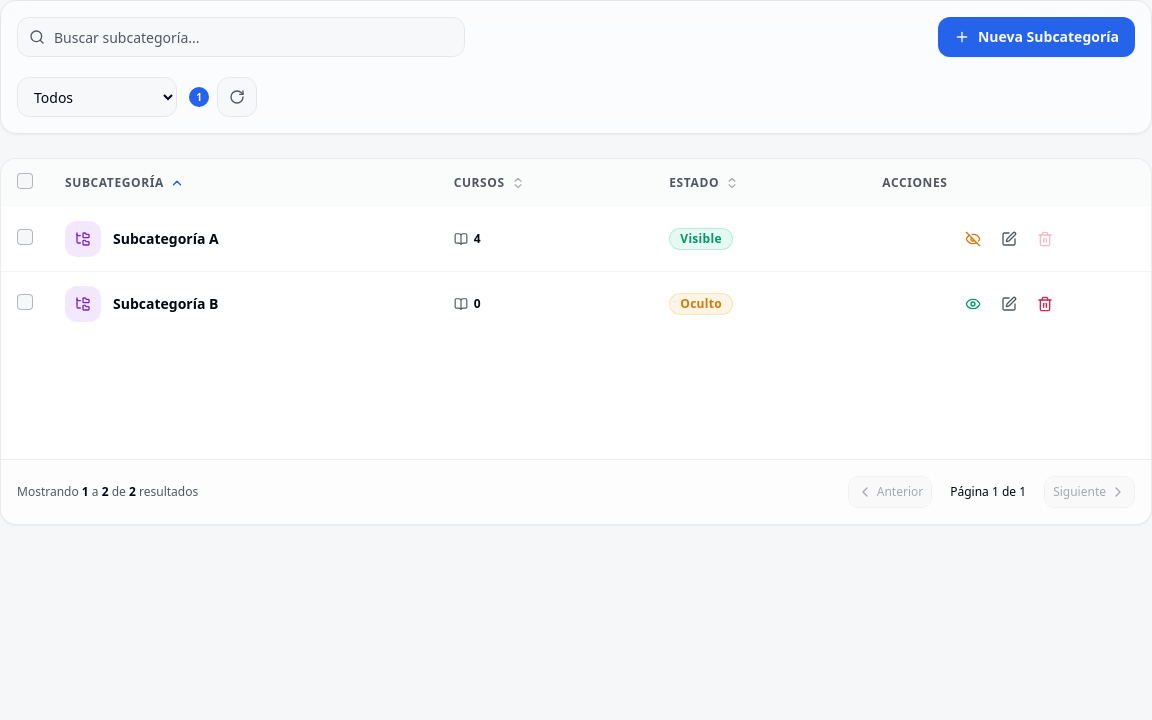
CategorySubcatsTab › opens create modal on button click
Click the button "Nueva Subcategoría" at {"x": 1036, "y": 37}, box [938,17,1135,57]
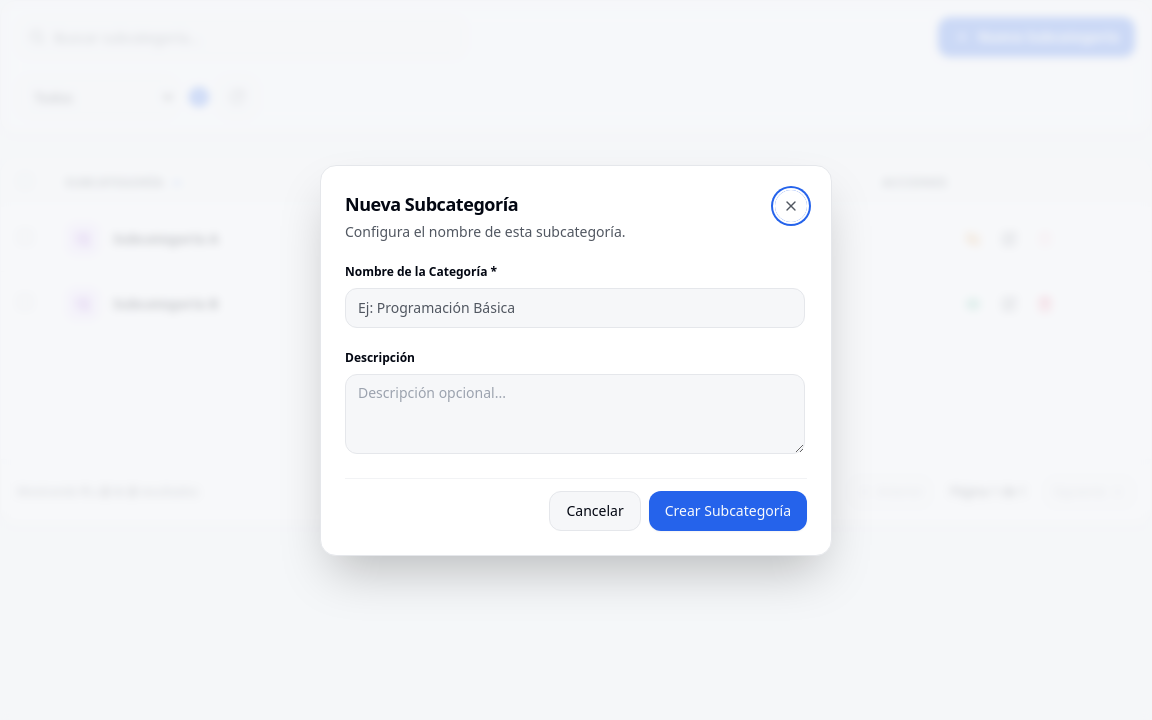
Expected: the button "Crear Subcategoría" is shown, [649,490,807,530]
